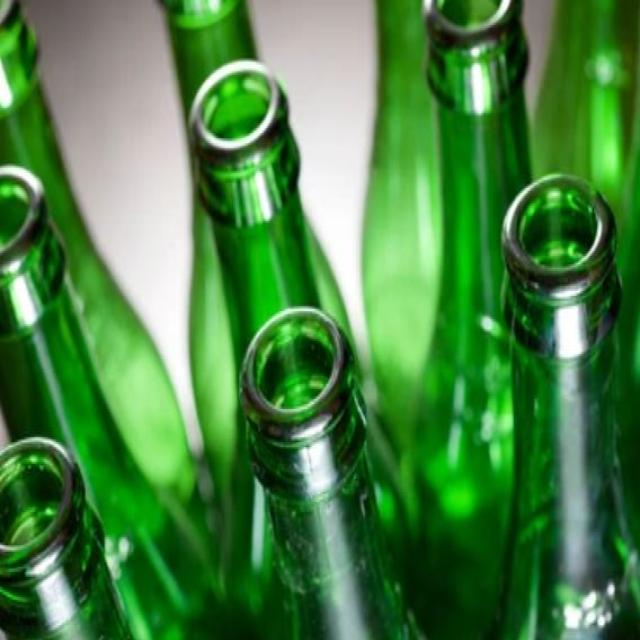electronic: (186, 57, 428, 640), (499, 167, 640, 640), (0, 431, 136, 640)
